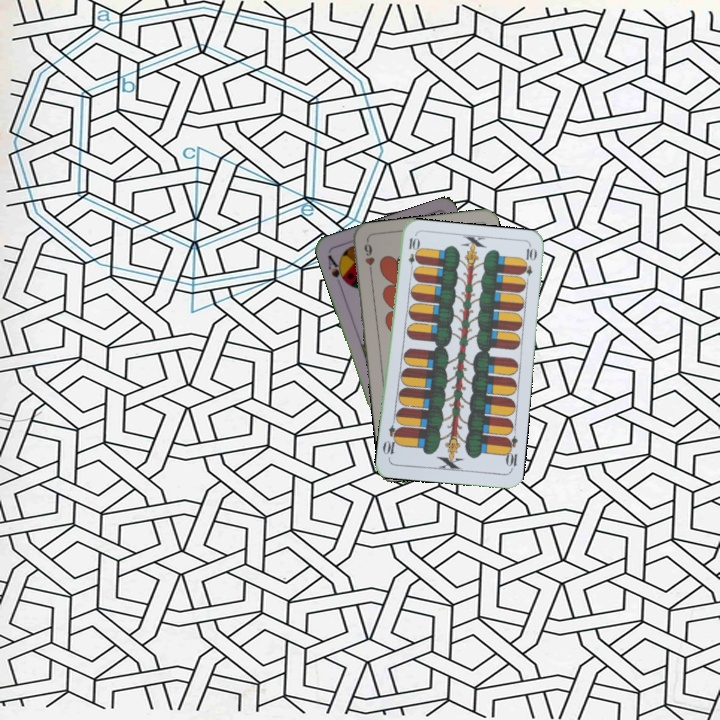E10: (501, 432, 520, 473), (404, 234, 420, 274)
H9: (360, 237, 377, 278)
SA: (324, 251, 350, 287)
